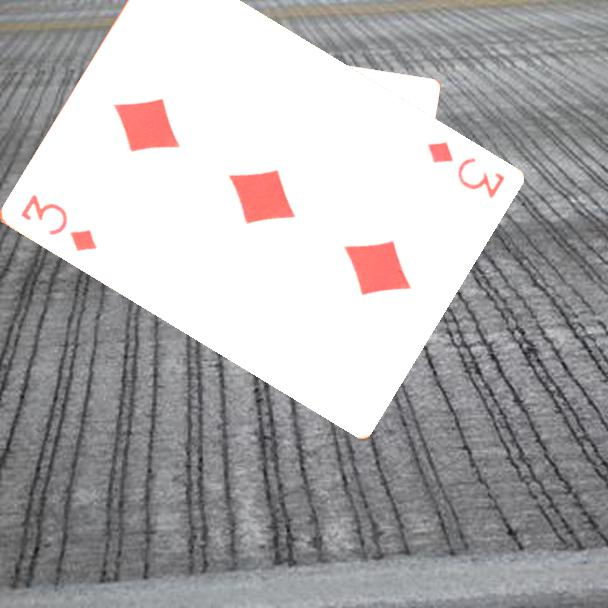d03: (422, 138, 507, 202), (16, 191, 100, 255)
